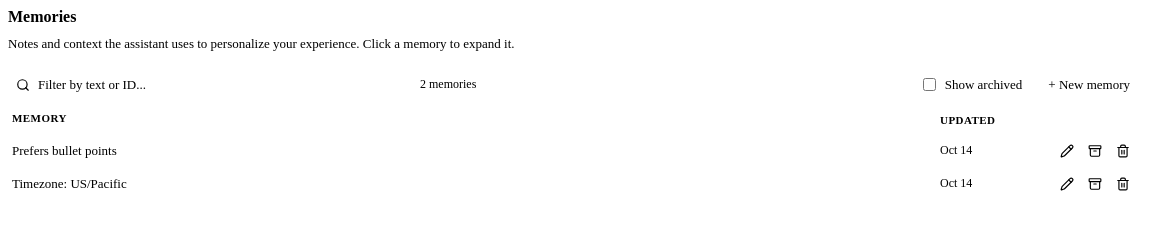
Test case: MemoriesSection › finds a memory by part of its id and shows the id on the match
Expected: the text "Prefers bullet points" is shown, [12, 143, 117, 158]
Expected: the text "ID:" is not shown
A substring from the middle of the id, in any case.
In the search field named "Filter memories": (218, 84) [36, 76, 400, 94], type " 52C9-4F7E "
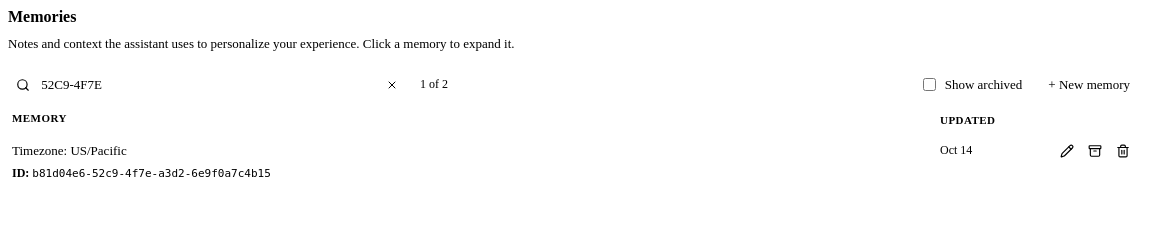
Expected: the row that starts with "Timezone: US/Pacific" is shown, [12, 143, 127, 158]
Expected: the text "b81d04e6-52c9-4f7e-a3d2-6e9f0a7c4b15" is shown, [32, 167, 271, 180]
Too short to be an id search: "3f2" is matched against the text only.
Replace the text in the search field named "Filter memories" with "3f2": (207, 84) [36, 76, 378, 94]
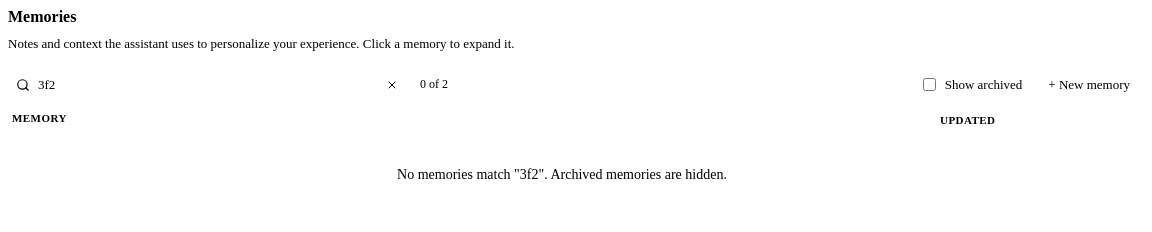
Expected: the text "No memories match \"3f2\". Archived memories are hidden." is shown, [8, 135, 1144, 215]
